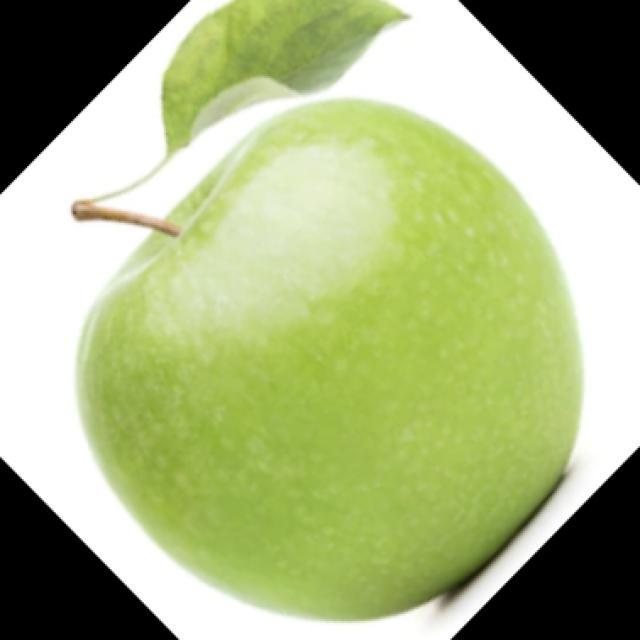Fresh Apple: (71, 91, 588, 619)
